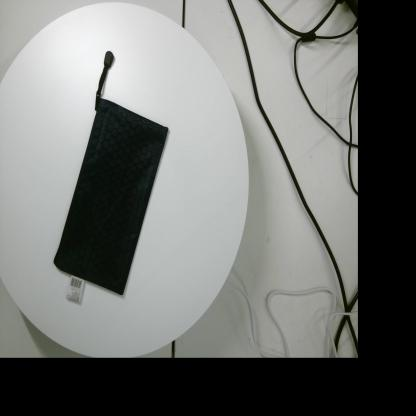Stationery: (53, 51, 168, 304)
